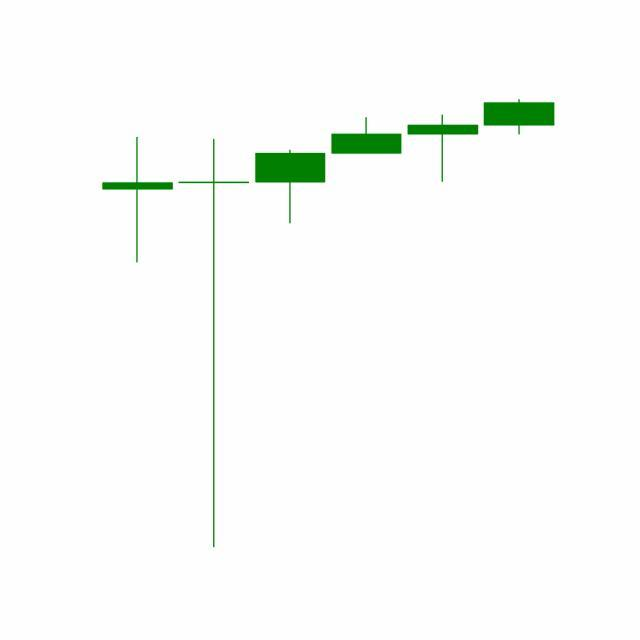Dragonfly Doji: (404, 114, 482, 184)
